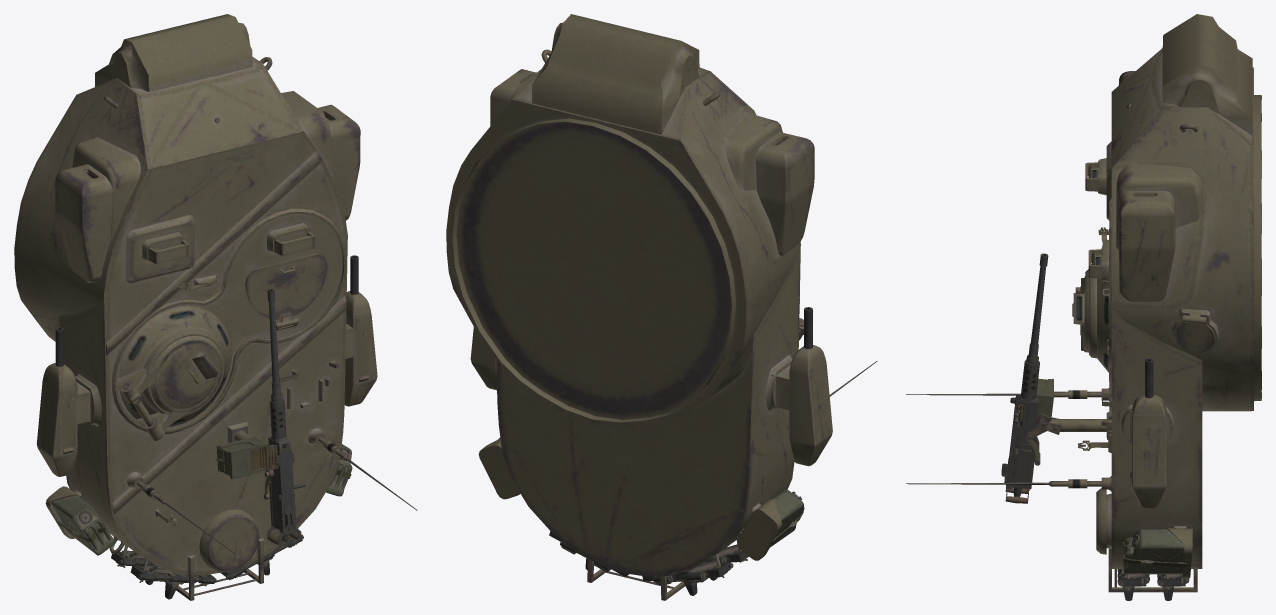
File: Turret_02.glb
3 views of the same model, side by side, from view 1: azimuth 30°, elevation 25°; view 2: azimuth 150°, elevation 25°; view 3: azimuth 270°, elevation 25° (orthographic). The views are drawn at different scales.
Parts seen in each view (by area): view 1: set_0_group_0; view 2: set_0_group_0; view 3: set_0_group_0.
Boxes of the visible parts, x1,y1,x2,y2 form: set_0_group_0: (14, 14, 417, 600); set_0_group_0: (446, 14, 877, 600); set_0_group_0: (906, 14, 1261, 600).
Size of the model in its own units: 2.32 by 3.62 by 2.18.
Materials: 1 (1 with a texture image).
